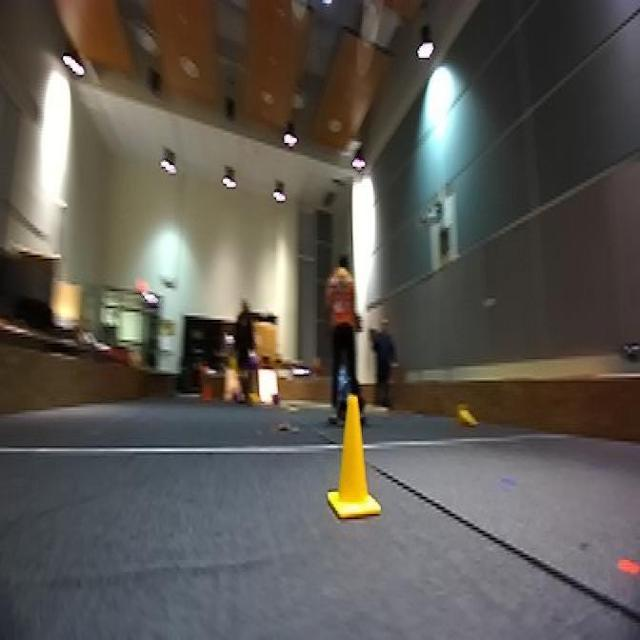frc_cone: (324, 400, 381, 529), (449, 402, 483, 432)
